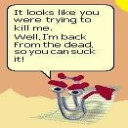Metal: (49, 71, 99, 119)
